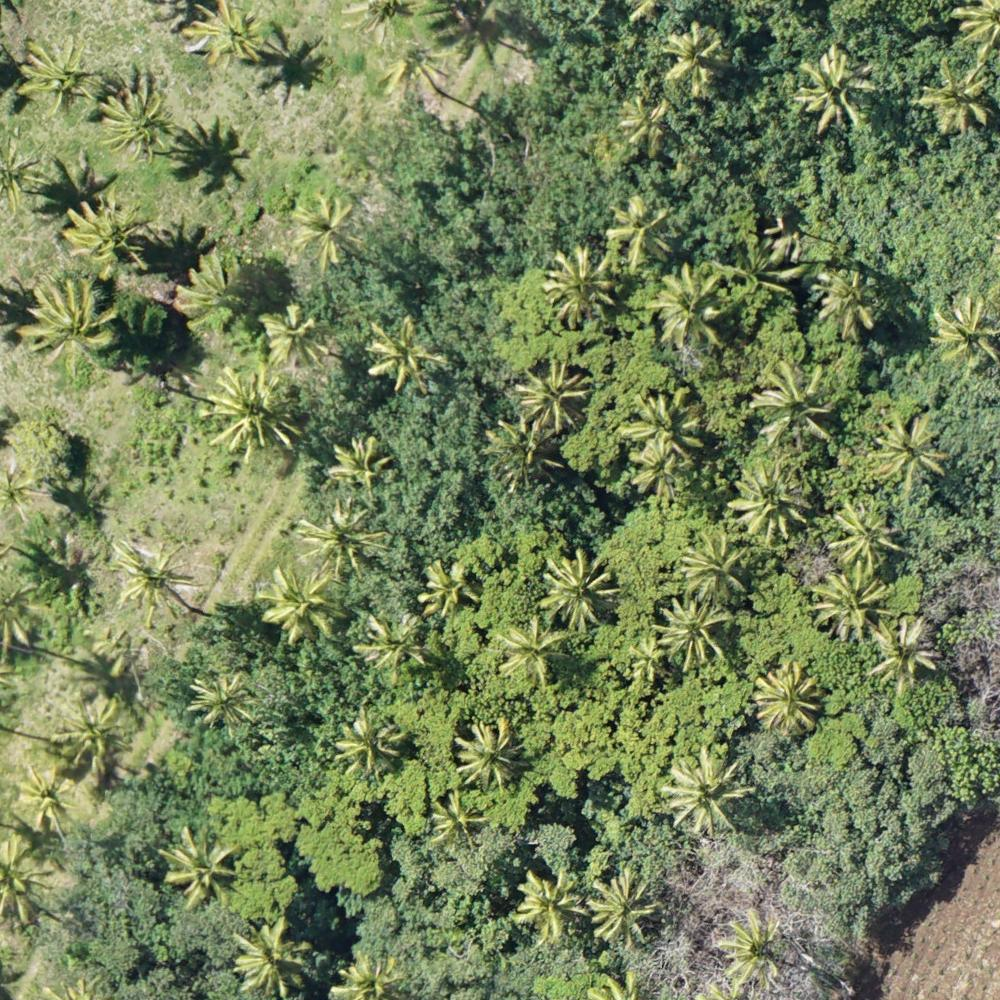Palm: (26, 275, 117, 372), (207, 364, 295, 456), (51, 689, 133, 783), (296, 500, 389, 579), (67, 197, 153, 280), (666, 746, 749, 832), (655, 266, 737, 350), (268, 567, 349, 650), (754, 364, 835, 445), (159, 829, 240, 909), (112, 541, 197, 617), (871, 410, 949, 491), (229, 923, 313, 998), (729, 464, 805, 546), (795, 47, 871, 129), (919, 59, 997, 135), (543, 547, 616, 627), (187, 4, 268, 75), (19, 39, 92, 116), (812, 567, 888, 640), (514, 869, 586, 945), (492, 619, 569, 690), (622, 388, 699, 459), (366, 321, 441, 393), (681, 529, 753, 604), (100, 86, 172, 159), (333, 709, 407, 780), (929, 293, 1000, 367), (586, 872, 655, 948), (452, 723, 525, 794), (714, 912, 785, 985), (830, 500, 902, 571), (545, 250, 614, 324), (659, 599, 731, 669), (288, 191, 355, 264), (874, 618, 940, 692), (814, 264, 883, 334), (755, 666, 819, 741), (179, 254, 250, 319), (607, 199, 673, 268), (262, 302, 330, 368), (519, 362, 584, 431), (185, 671, 254, 732), (430, 789, 491, 854), (661, 25, 721, 91), (331, 432, 392, 494), (16, 769, 71, 831), (420, 558, 472, 622), (617, 96, 671, 152), (632, 445, 682, 496)
